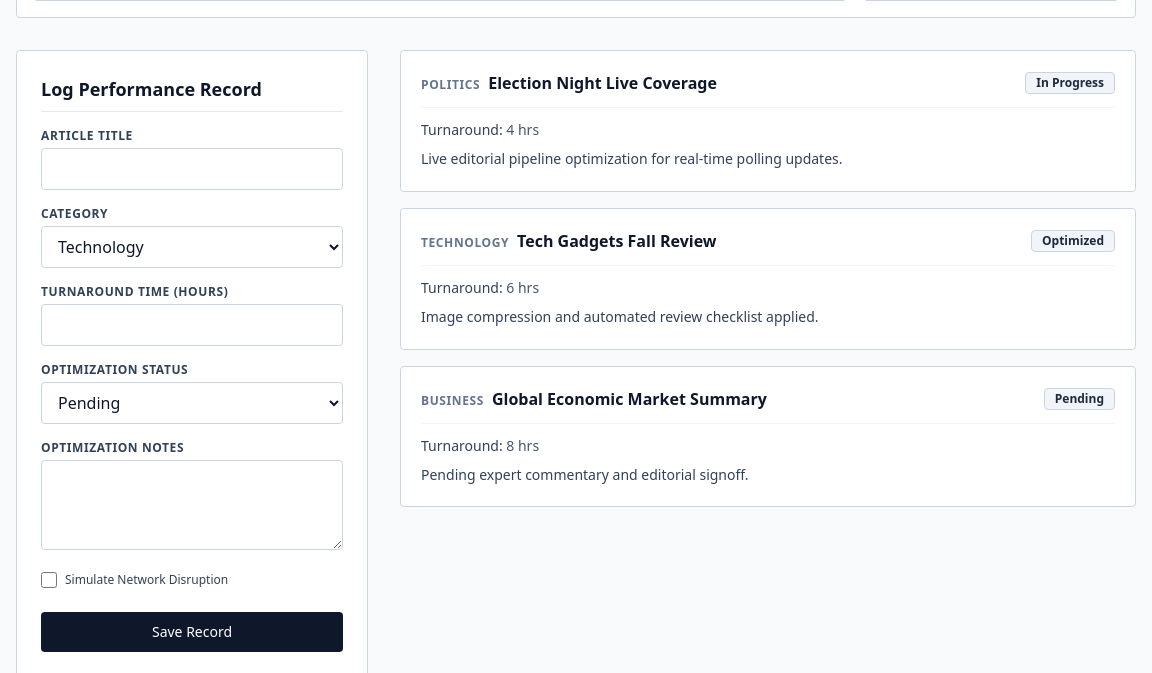
it: News Blog Performance Tracker Acceptance Tests › validates required fields, highlights invalid inputs, and blocks submission
The width and height of the screenshot is (1152, 673).
(page scrolled)
Click the button "Save Record" at (192, 632), box [41,612,343,652]
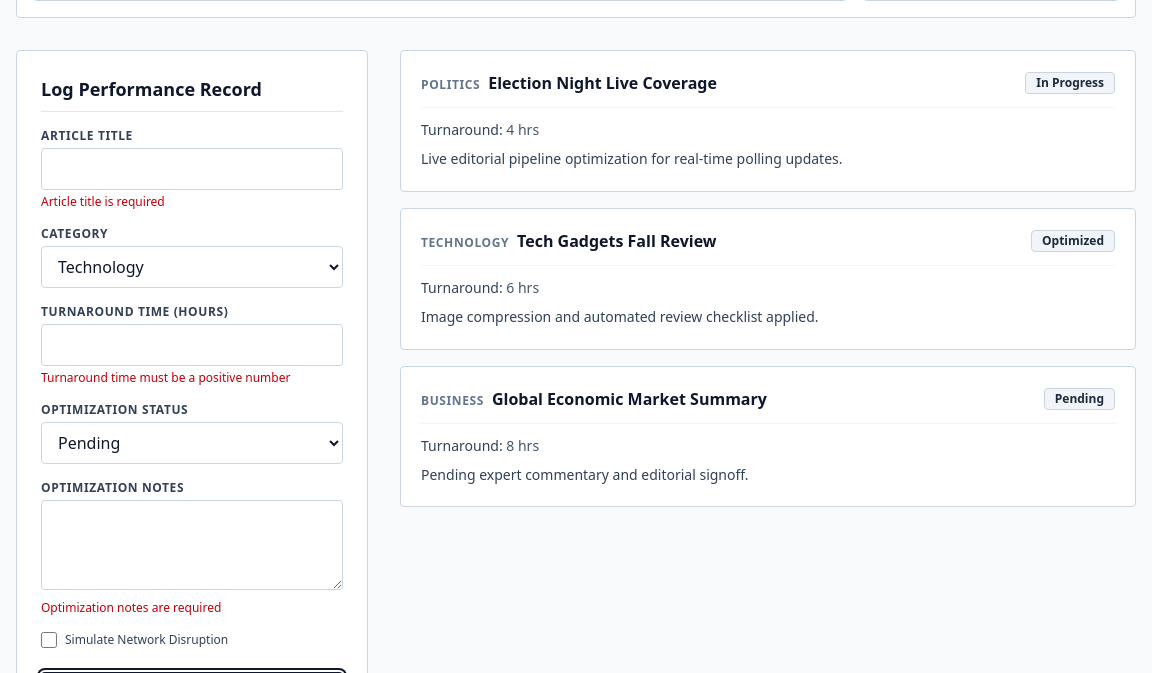
Check: the text "Article title is required" is shown, box [41,193,165,210]
Check: the text "Turnaround time must be a positive number" is shown, box [41,369,290,386]
Check: the text "Optimization notes are required" is shown, box [41,599,221,616]
